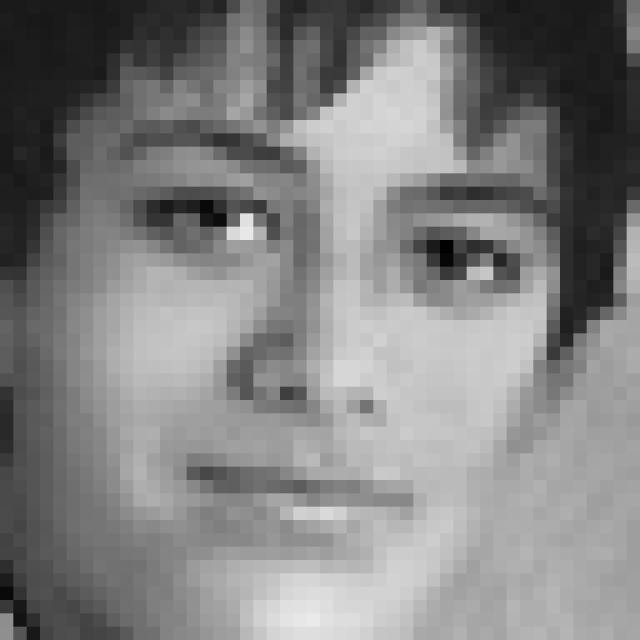neutral: (105, 111, 565, 572)
